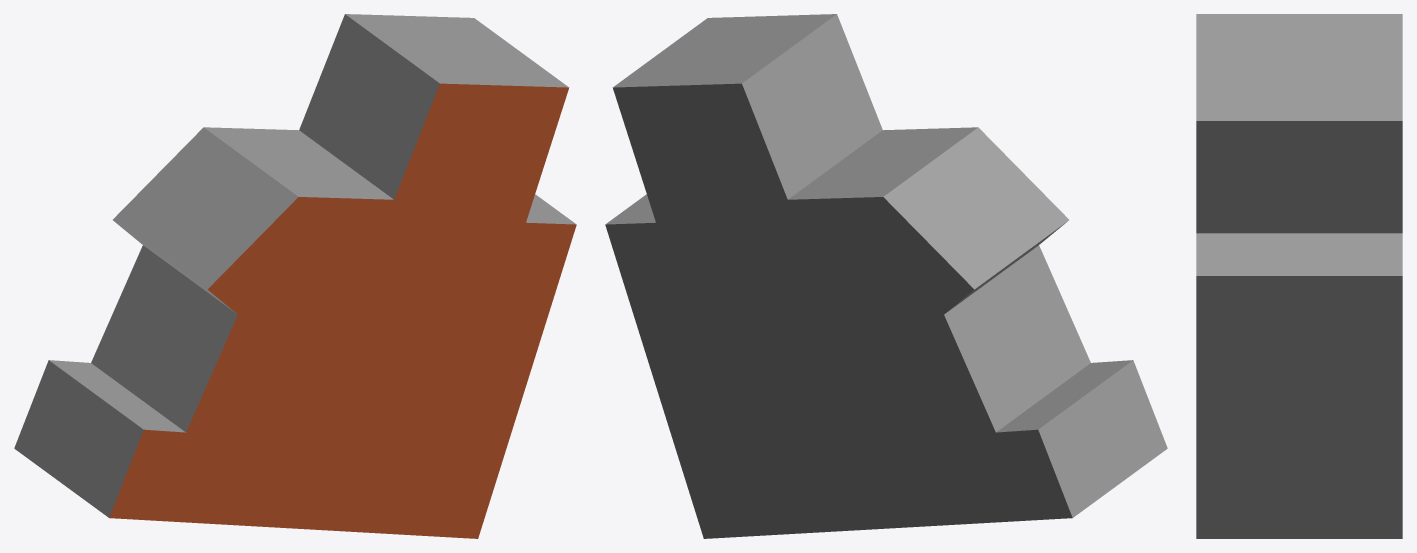
File: construction_3603_assumed_A_Casa_h6m.obj
3 renders of one model, left to right at view 1: azimuth 30°, elevation 25°; view 2: azimuth 150°, elevation 25°; view 3: azimuth 270°, elevation 25°, orthographic. The views are drawn at different scales.
Visible parts, largest first — view 1: construction_3603_assumed_A_Casa; view 2: construction_3603_assumed_A_Casa; view 3: construction_3603_assumed_A_Casa.
Part boxes in pixels (<box>): construction_3603_assumed_A_Casa: <box>14,14,576,538</box>; construction_3603_assumed_A_Casa: <box>605,14,1167,538</box>; construction_3603_assumed_A_Casa: <box>1196,14,1402,538</box>.
Size of the model in its own units: 17.03 by 16.17 by 6.
